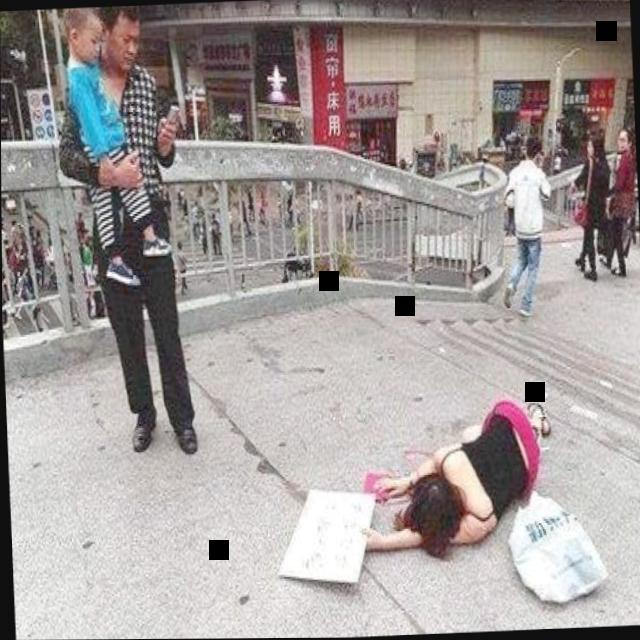Fall-Detected: (337, 374, 564, 574)
